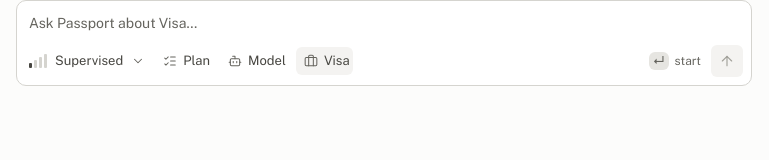
Test: R5-7 demo backend › R5-7: runs the agent once and shows the outcome when tasks answer 501
Type "What’s due?" into the text box named "Instruction for Passport".
click(385, 24); type("What’s due?")  # box 29,11 -> 741,37
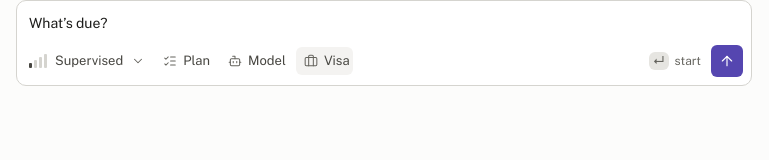
Press Enter in the text box named "Instruction for Passport", box 29,11 -> 741,37
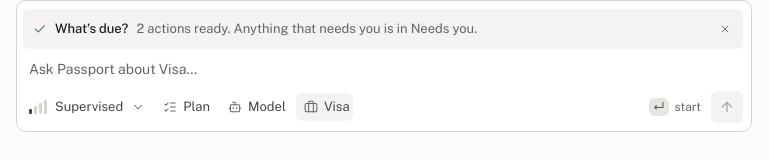
Now the text "2 actions ready. Anything that needs you is in Needs you." is shown, box 136,21 -> 477,36
